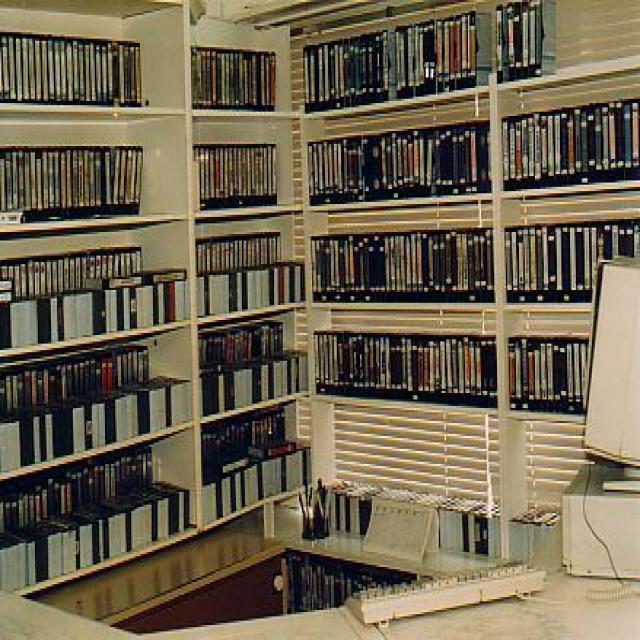computer keyboard: (561, 256, 637, 578)
desk calendar: (0, 518, 637, 638)
floor -X: (26, 505, 423, 629)
keyboard crop: (344, 556, 544, 621)
shelves crop: (300, 0, 637, 576)
video: (208, 449, 248, 472), (248, 438, 294, 457), (83, 275, 140, 286)
videos: (1, 475, 190, 591), (0, 372, 190, 466), (308, 118, 490, 204), (313, 324, 496, 406), (308, 223, 493, 299), (3, 273, 184, 346), (502, 94, 636, 187), (0, 144, 141, 219), (0, 30, 140, 103), (1, 341, 146, 408), (201, 440, 303, 522), (392, 9, 490, 94), (303, 28, 386, 110), (504, 223, 590, 299), (200, 348, 294, 414), (509, 331, 586, 410), (195, 262, 303, 314), (191, 140, 276, 206), (190, 43, 274, 105), (494, 0, 555, 82), (194, 230, 280, 271)
wall clock: (185, 0, 464, 513)
